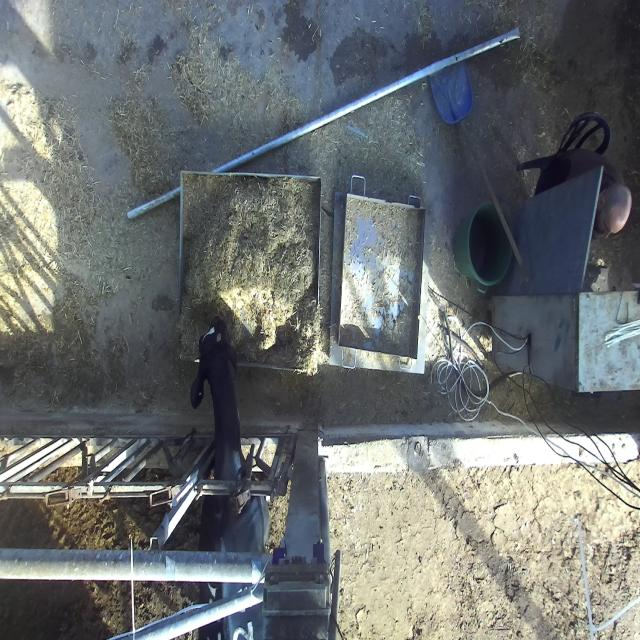cow: (188, 321, 239, 413)
